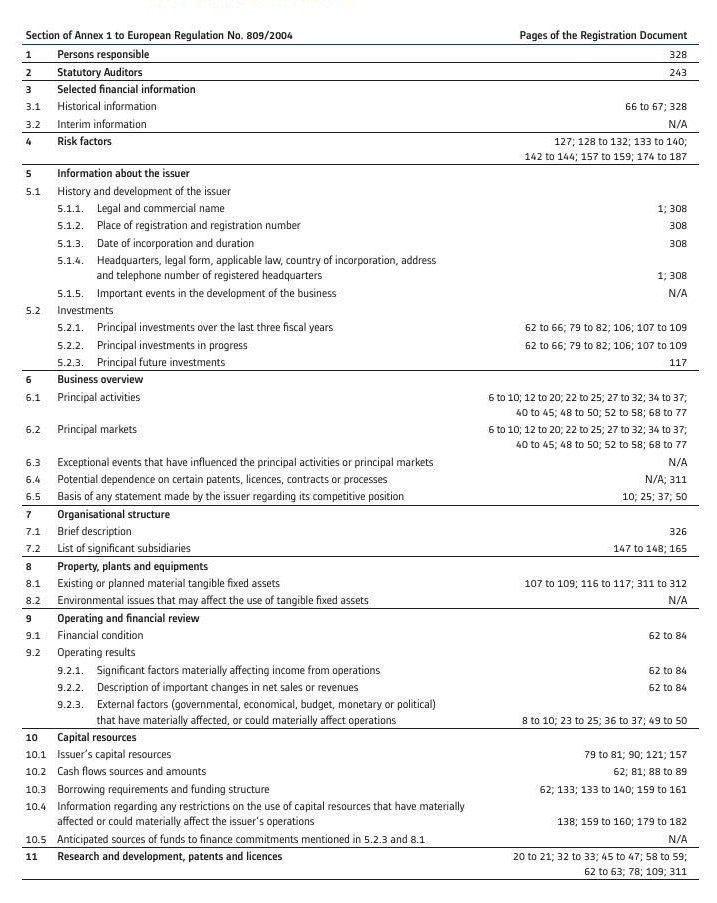table: (0, 0, 717, 903)
